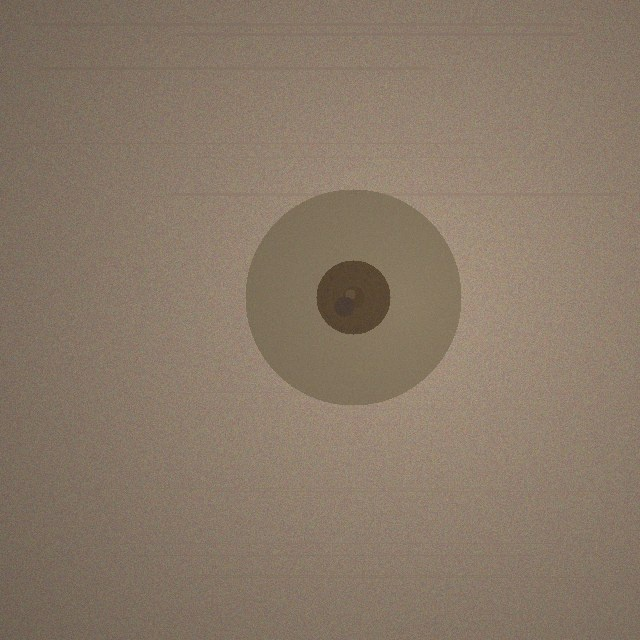cold_weld: (245, 189, 461, 405)
